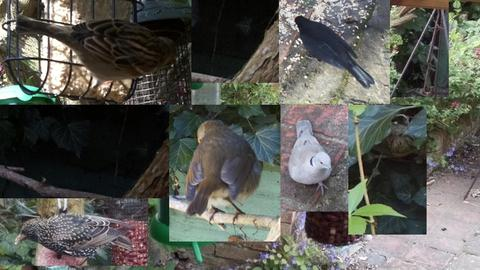blackbird: (294, 15, 375, 89)
collared dove: (288, 120, 333, 196)
robin: (184, 120, 266, 226)
sparrow: (15, 15, 176, 90)
starling: (15, 213, 133, 259)
